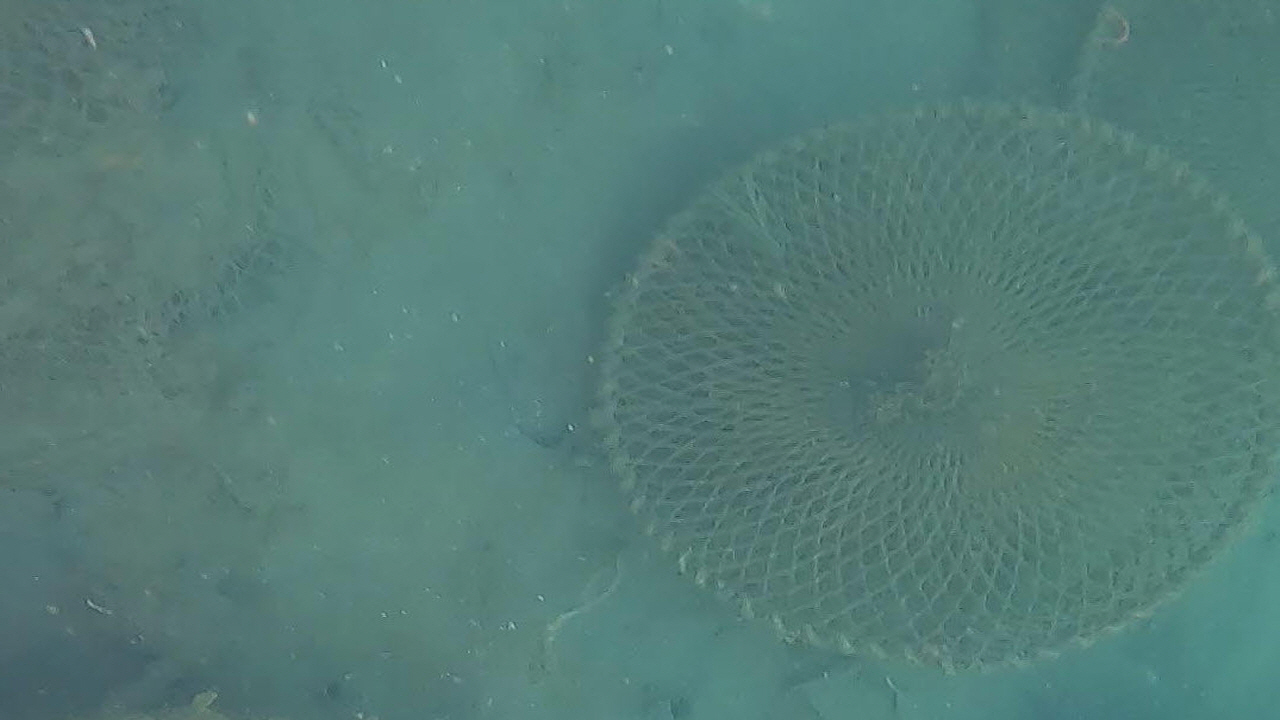circular fish trap: (591, 96, 1280, 672)
